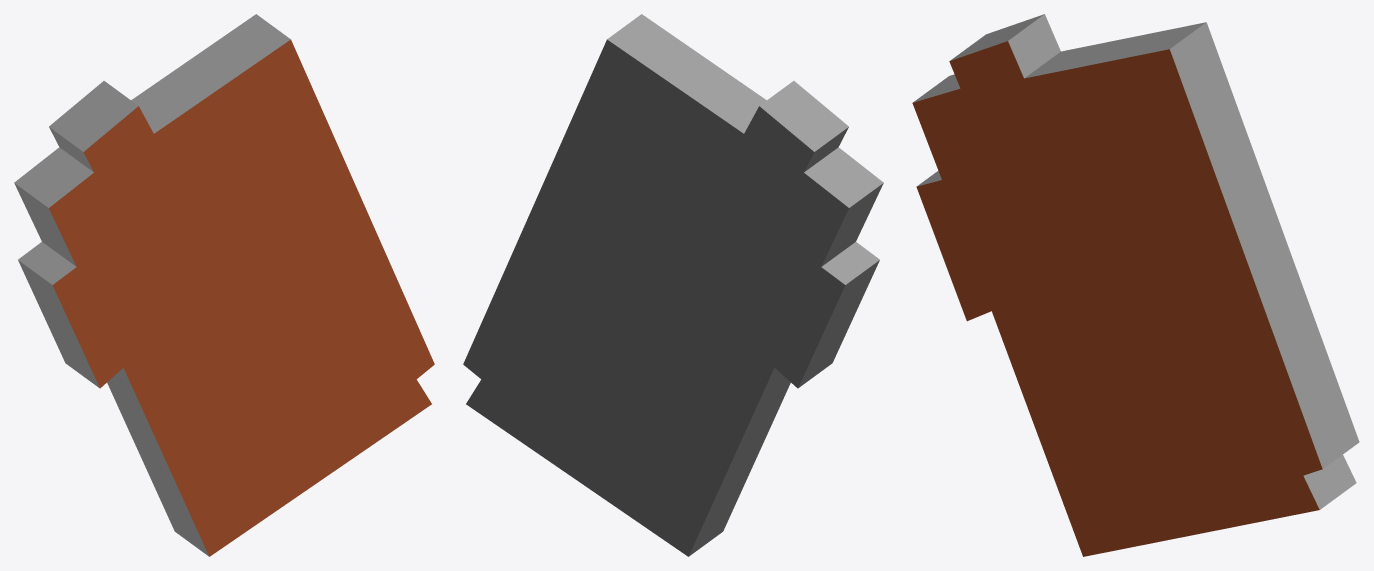
Rendered from construction_1185_assumed_A_Casa_h6m.obj.
3 renders of one model, left to right at view 1: azimuth 30°, elevation 25°; view 2: azimuth 150°, elevation 25°; view 3: azimuth 330°, elevation 25°, orthographic. The views are drawn at different scales.
Visible parts, largest first — view 1: construction_1185_assumed_A_Casa; view 2: construction_1185_assumed_A_Casa; view 3: construction_1185_assumed_A_Casa.
Boxes of the visible parts, x1,y1,x2,y2 form: construction_1185_assumed_A_Casa: (14, 14, 434, 556); construction_1185_assumed_A_Casa: (463, 14, 883, 556); construction_1185_assumed_A_Casa: (912, 14, 1359, 556).
Bounding box in the file's own units: 38.53 × 47.46 × 6.
